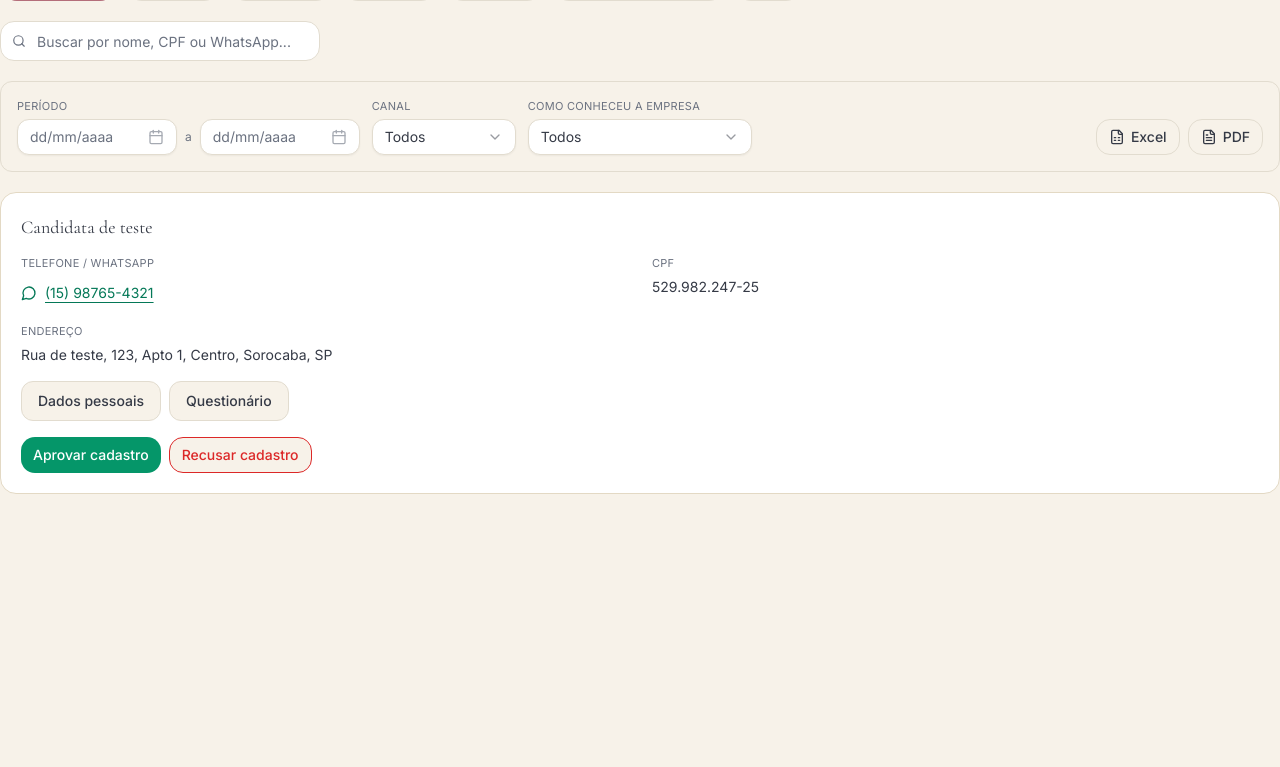
it: Captação · respostas da candidata › mostra o detalhe de Outra e respeita a resposta Não sobre experiência
The image size is (1280, 767).
Click the button "Questionário".
click(229, 400)  # box [169,380,289,420]
(page scrolled)
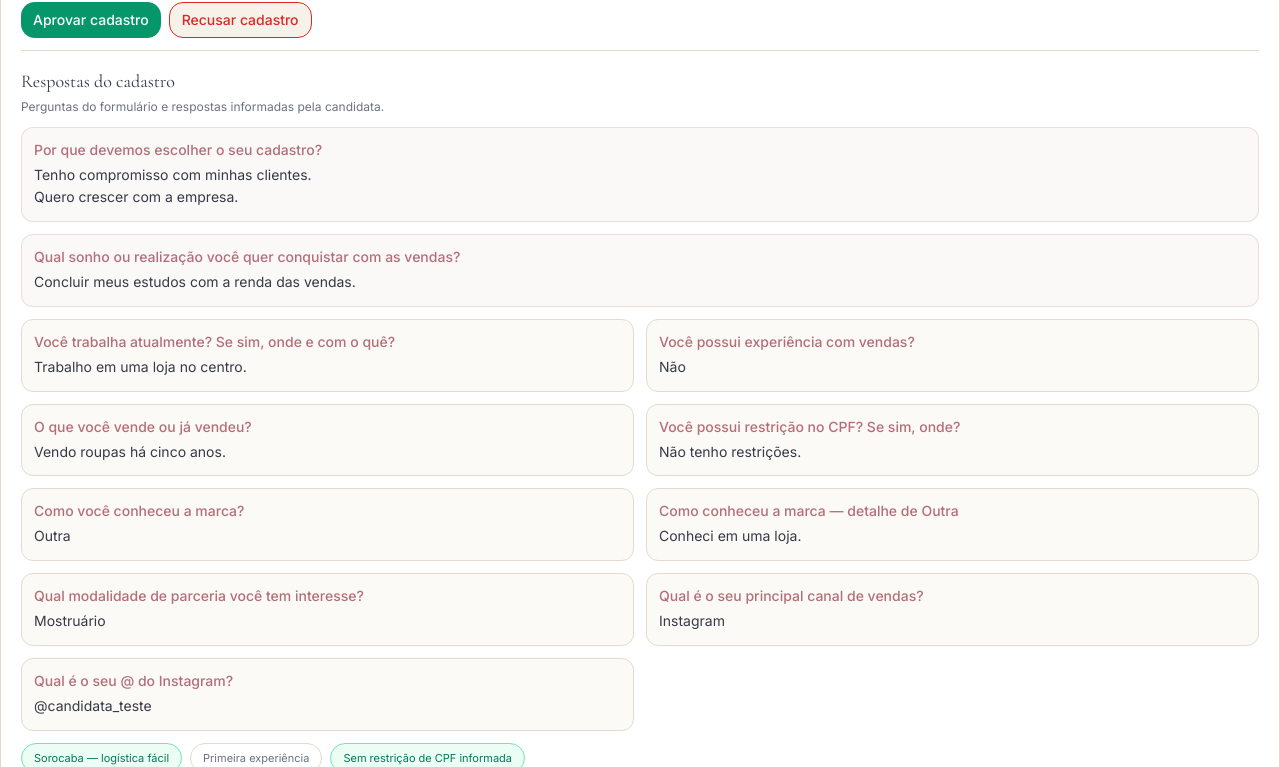
Check: the text "Outra" is shown, box [34,527,71,544]
Check: the text "Conheci em uma loja." is shown, box [659,527,801,544]
Check: the text "Não" is shown, box [659,358,686,375]
